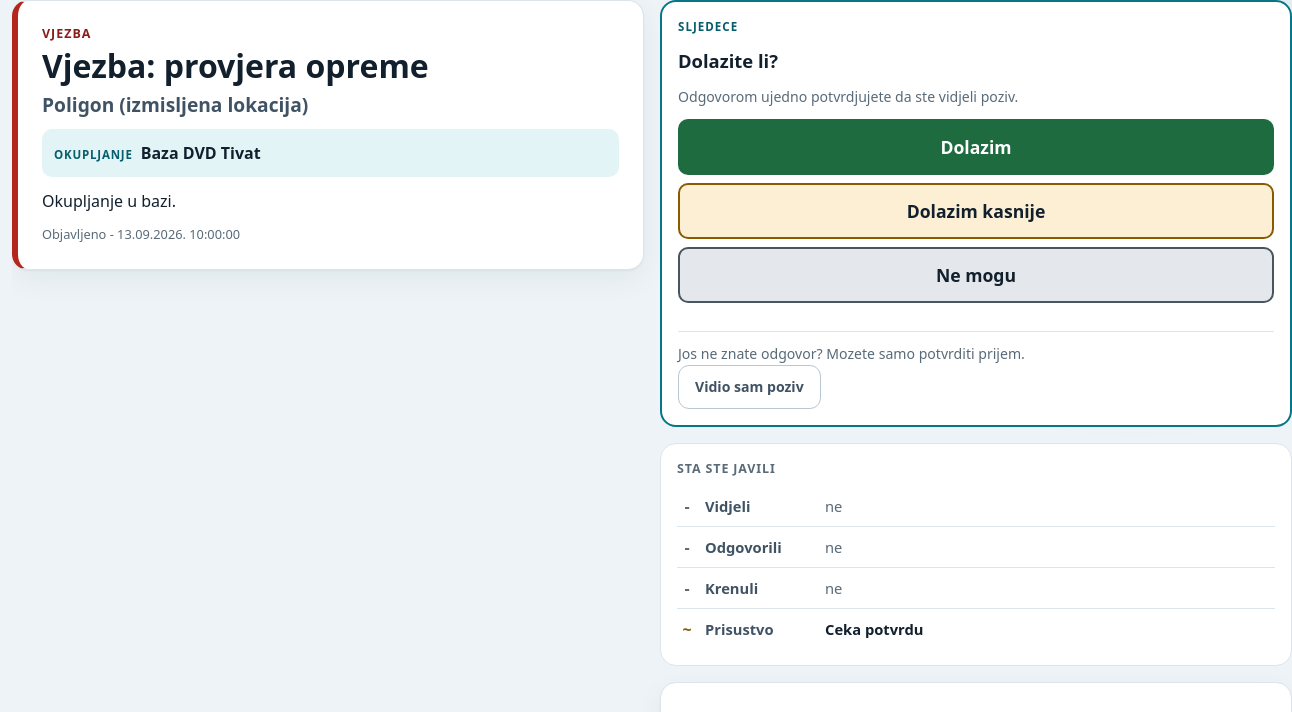
Scenario: the firefighter screen renders on real data › keeps the saved answer visible and offers receipt retry when that request fails
The image size is (1292, 712).
Click the button with test id "answer-DOLAZIM" at (976, 147), box [678,119,1274,175]
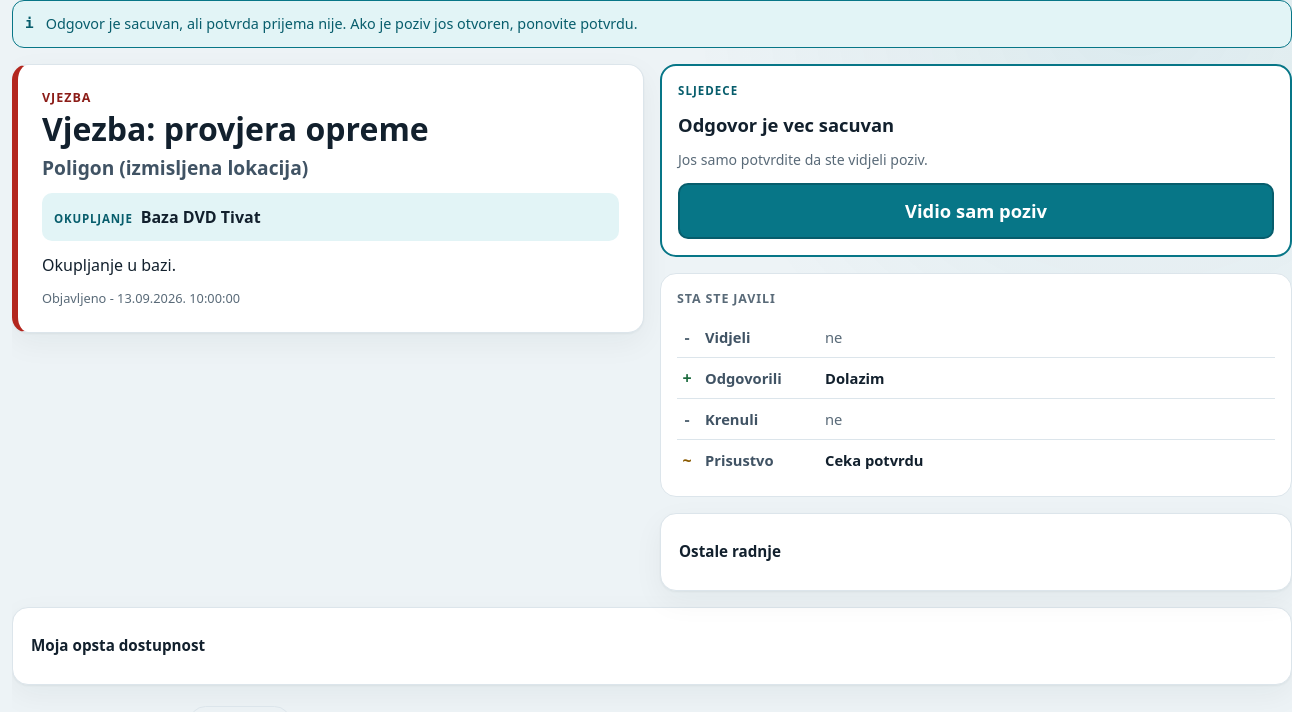
expect the button with test id "acknowledge" is shown: met, box [678,183,1274,239]
expect the button with test id "answer-DOLAZIM" is gone: met
expect the text "Odgovor je sacuvan, ali potvrda prijema nije." is shown: met, box [46,14,638,33]
